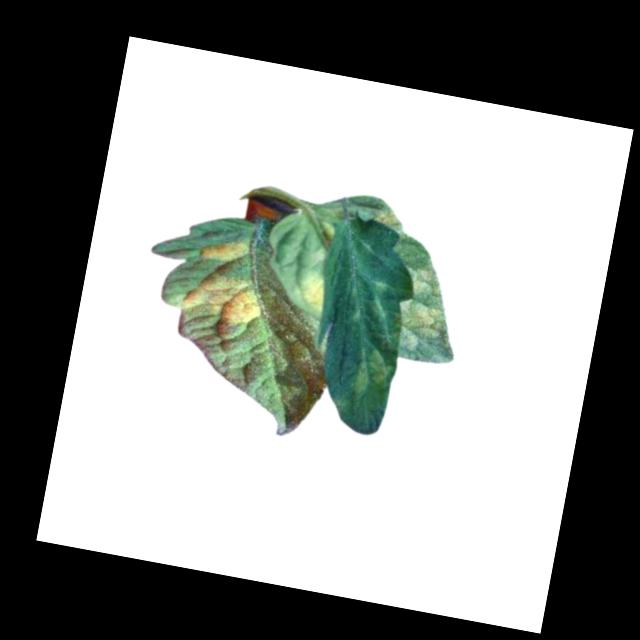Leaf_Mold: (391, 257, 464, 358), (177, 265, 266, 328), (345, 344, 394, 406), (196, 229, 251, 268), (290, 271, 331, 313), (369, 202, 402, 232)
